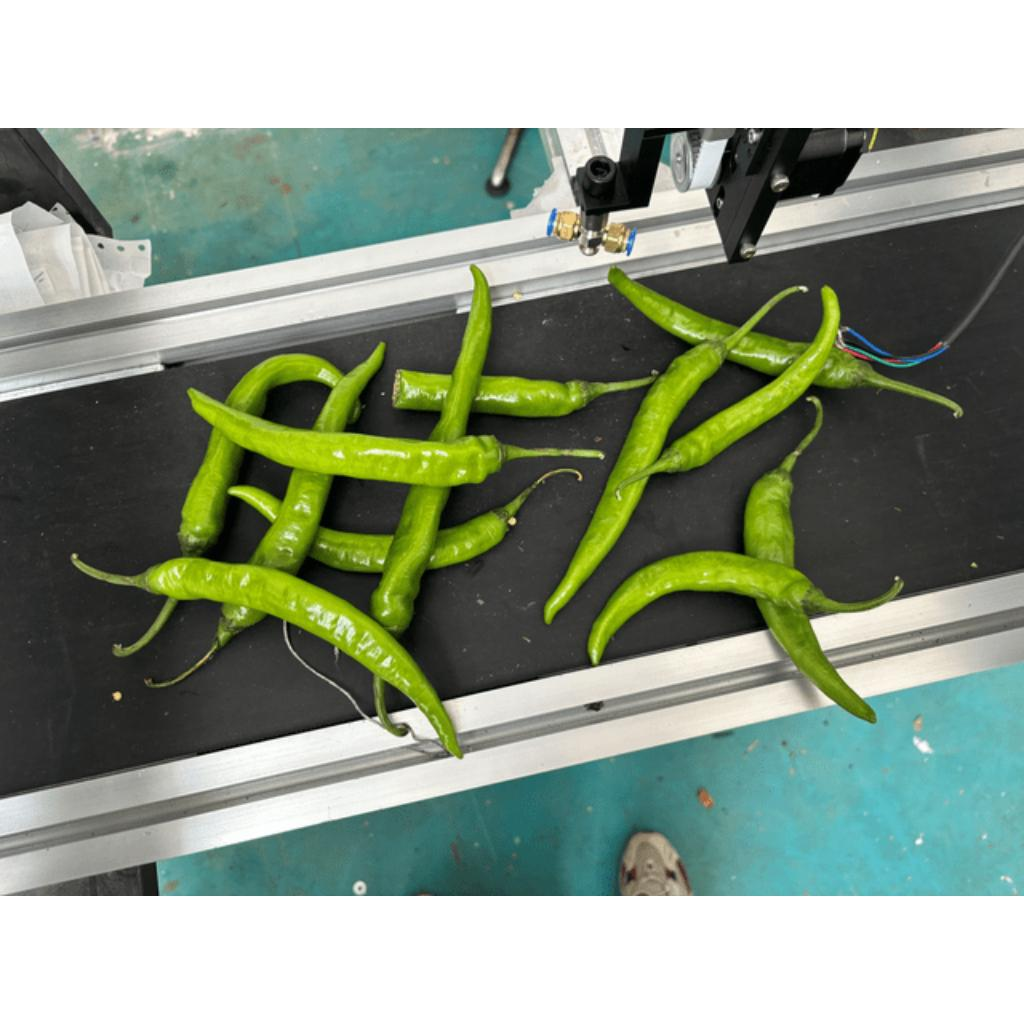chili: (137, 555, 467, 759), (538, 340, 729, 633), (216, 334, 388, 632), (367, 260, 500, 639), (179, 352, 364, 556), (657, 279, 842, 474), (742, 469, 881, 728), (607, 259, 876, 392), (186, 385, 507, 486), (584, 547, 831, 671), (225, 486, 517, 576), (387, 368, 604, 419)
